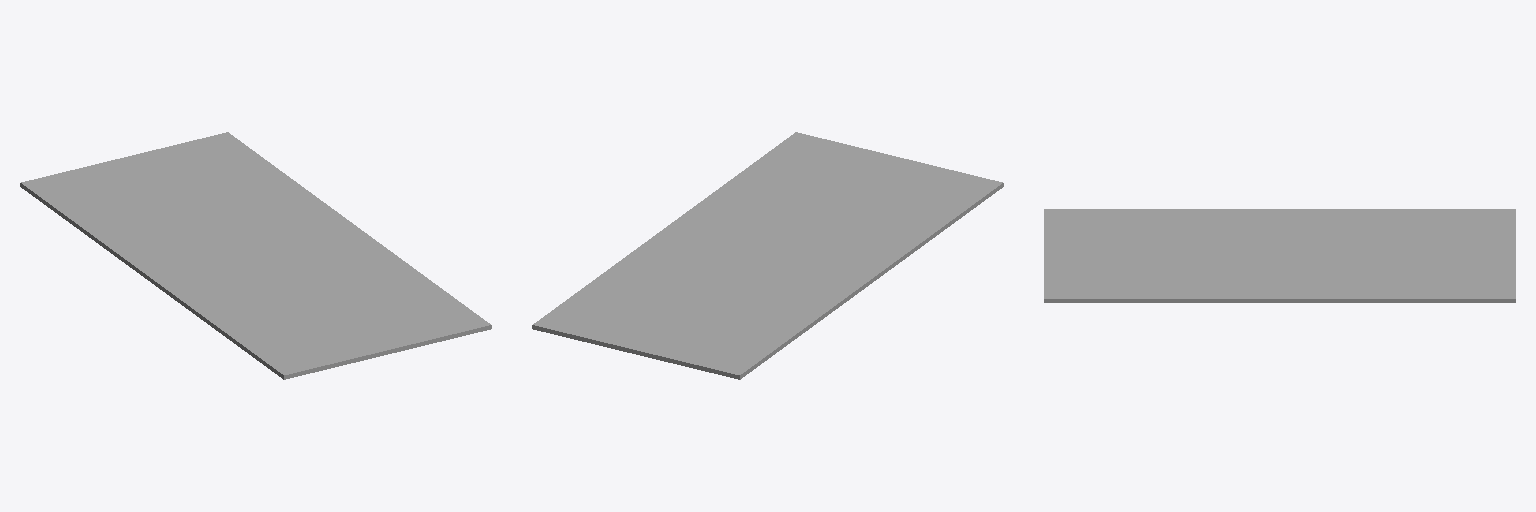
The robot description file, URDF, robot "ur5e":
<?xml version="1.0" ?>
<robot name="ur5e">
	<link name="base_link">
		<contact>
			<lateral_friction value="1.0" />
			<spinning_friction value="0.2" />
			<rolling_friction value="0.001" />
			<contact_cfm value="0.0" />
			<contact_erp value="0.8" />
			<damping value="1000" />
			<stiffness value="30000" />
		</contact>
		<inertial>
			<origin rpy="0 0 0" xyz="0 0 0" />
			<mass value="1.0" />
			<inertia ixx="1" ixy="0" ixz="0" iyy="1" iyz="0" izz="1" />
		</inertial>
		<visual>
			<origin rpy="0 0 0" xyz="0 0 -0.005" />
			<geometry>
				<box size= "0.5 1.1 0.01" />
			</geometry>
			<material name="base">
				<color rgba="0.7 0.7 0.7 1" />
			</material>
		</visual>
		<collision>
			<origin rpy="0 0 0" xyz="0 0 -0.005" />
			<geometry>
				<box size= "0.5 1.1 0.01" />
			</geometry>
		</collision>
	</link>

	<joint name="base_joint" type="fixed">
		<parent link="base_link"/>
		<child link="ur_base_link"/>
		<origin rpy="0 0 0" xyz="0.15 0.45 0.0"/>
	</joint>
	<link name="ur_base_link">
		<visual>
			<geometry>
				<mesh filename="mesh/visual/base.dae"/>
			</geometry>
			<material name="LightGrey">
				<color rgba="0.7 0.7 0.7 1.0"/>
			</material>
		</visual>
		<collision>
			<geometry>
				<mesh filename="mesh/collision/base.stl" scale="1.0 1.0 1.0"/>
			</geometry>
		</collision>
		<inertial>
			<mass value="4.0"/>
			<origin rpy="0 0 0" xyz="0.0 0.0 0.0"/>
			<inertia ixx="0.00443333156" ixy="0.0" ixz="0.0" iyy="0.00443333156" iyz="0.0" izz="0.0072"/>
		</inertial>
	</link>
	
	<joint name="shoulder_pan_joint" type="revolute">
		<parent link="ur_base_link"/>
		<child link="shoulder_link"/>
		<origin rpy="0.0 0.0 0.0" xyz="0.0 0.0 0.163"/>
		<axis xyz="0 0 1"/>
		<limit effort="150.0" lower="-6.28318530718" upper="6.28318530718" velocity="3.14"/>
		<dynamics damping="0.0" friction="0.0"/>
	</joint>
	
	<link name="shoulder_link">
		<visual>
			<geometry>
				<mesh filename="mesh/visual/shoulder.dae"/>
			</geometry>
			<material name="LightGrey">
				<color rgba="0.7 0.7 0.7 1.0"/>
			</material>
		</visual>
		<collision>
			<geometry>
				<mesh filename="mesh/collision/shoulder.stl" scale="1.0 1.0 1.0"/>
			</geometry>
		</collision>
		<inertial>
			<mass value="3.7"/>
			<origin rpy="0 0 0" xyz="0.0 0.0 0.0"/>
			<inertia ixx="0.010267495893" ixy="0.0" ixz="0.0" iyy="0.010267495893" iyz="0.0" izz="0.00666"/>
		</inertial>
	</link>
	
	<joint name="shoulder_lift_joint" type="revolute">
		<parent link="shoulder_link"/>
		<child link="upper_arm_link"/>
		<origin rpy="0.0 1.57079632679 0.0" xyz="0.0 0.138 0.0"/>
		<axis xyz="0 1 0"/>
		<limit effort="150.0" lower="-6.28318530718" upper="6.28318530718" velocity="3.14"/>
		<dynamics damping="0.0" friction="0.0"/>
	</joint>
	
	<link name="upper_arm_link">
		<visual>
			<geometry>
				<mesh filename="mesh/visual/upperarm.dae"/>
			</geometry>
			<material name="LightGrey">
				<color rgba="0.7 0.7 0.7 1.0"/>
			</material>
		</visual>
		<collision>
			<geometry>
				<mesh filename="mesh/collision/upperarm.stl" scale="1.0 1.0 1.0"/>
			</geometry>
		</collision>
		<inertial>
			<mass value="8.393"/>
			<origin rpy="0 0 0" xyz="0.0 0.0 0.2125"/>
			<inertia ixx="0.133885781862" ixy="0.0" ixz="0.0" iyy="0.133885781862" iyz="0.0" izz="0.0151074"/>
		</inertial>
	</link>
	
	<joint name="elbow_joint" type="revolute">
		<parent link="upper_arm_link"/>
		<child link="forearm_link"/>
		<origin rpy="0.0 0.0 0.0" xyz="0.0 -0.131 0.425"/>
		<axis xyz="0 1 0"/>
		<limit effort="150.0" lower="-3.14159265359" upper="3.14159265359" velocity="3.14"/>
		<dynamics damping="0.0" friction="0.0"/>
	</joint>
	
	<link name="forearm_link">
		<visual>
			<geometry>
				<mesh filename="mesh/visual/forearm.dae"/>
			</geometry>
			<material name="LightGrey">
				<color rgba="0.7 0.7 0.7 1.0"/>
			</material>
		</visual>
		<collision>
			<geometry>
				<mesh filename="mesh/collision/forearm.stl" scale="1.0 1.0 1.0"/>
			</geometry>
		</collision>
		<inertial>
			<mass value="2.275"/>
			<origin rpy="0 0 0" xyz="0.0 0.0 0.196"/>
			<inertia ixx="0.0311796208615" ixy="0.0" ixz="0.0" iyy="0.0311796208615" iyz="0.0" izz="0.004095"/>
		</inertial>
	</link>
	
	<joint name="wrist_1_joint" type="revolute">
		<parent link="forearm_link"/>
		<child link="wrist_1_link"/>
		<origin rpy="0.0 1.57079632679 0.0" xyz="0.0 0.0 0.392"/>
		<axis xyz="0 1 0"/>
		<limit effort="28.0" lower="-6.28318530718" upper="6.28318530718" velocity="6.28"/>
		<dynamics damping="0.0" friction="0.0"/>
	</joint>
	
	<link name="wrist_1_link">
		<visual>
			<geometry>
				<mesh filename="mesh/visual/wrist1.dae"/>
			</geometry>
			<material name="LightGrey">
				<color rgba="0.7 0.7 0.7 1.0"/>
			</material>
		</visual>
		<collision>
			<geometry>
				<mesh filename="mesh/collision/wrist1.stl" scale="1.0 1.0 1.0"/>
			</geometry>
		</collision>
		<inertial>
			<mass value="1.219"/>
			<origin rpy="0 0 0" xyz="0.0 0.127 0.0"/>
			<inertia ixx="0.00255989897604" ixy="0.0" ixz="0.0" iyy="0.00255989897604" iyz="0.0" izz="0.0021942"/>
		</inertial>
	</link>
	
	<joint name="wrist_2_joint" type="revolute">
		<parent link="wrist_1_link"/>
		<child link="wrist_2_link"/>
		<origin rpy="0.0 0.0 0.0" xyz="0.0 0.127 0.0"/>
		<axis xyz="0 0 1"/>
		<limit effort="28.0" lower="-6.28318530718" upper="6.28318530718" velocity="6.28"/>
		<dynamics damping="0.0" friction="0.0"/>
	</joint>
	
	<link name="wrist_2_link">
		<visual>
			<geometry>
				<mesh filename="mesh/visual/wrist2.dae"/>
			</geometry>
			<material name="LightGrey">
				<color rgba="0.7 0.7 0.7 1.0"/>
			</material>
		</visual>
		<collision>
			<geometry>
				<mesh filename="mesh/collision/wrist2.stl" scale="1.0 1.0 1.0"/>
			</geometry>
		</collision>
		<inertial>
			<mass value="1.219"/>
			<origin rpy="0 0 0" xyz="0.0 0.0 0.1"/>
			<inertia ixx="0.00255989897604" ixy="0.0" ixz="0.0" iyy="0.00255989897604" iyz="0.0" izz="0.0021942"/>
		</inertial>
	</link>
	
	<joint name="wrist_3_joint" type="revolute">
		<parent link="wrist_2_link"/>
		<child link="wrist_3_link"/>
		<origin rpy="0.0 0.0 0.0" xyz="0.0 0.0 0.1"/>
		<axis xyz="0 1 0"/>
		<limit effort="28.0" lower="-6.28318530718" upper="6.28318530718" velocity="6.28"/>
		<dynamics damping="0.0" friction="0.0"/>
	</joint>
	
	<link name="wrist_3_link">
		<visual>
			<geometry>
				<mesh filename="mesh/visual/wrist3.dae"/>
			</geometry>
			<material name="LightGrey">
				<color rgba="0.7 0.7 0.7 1.0"/>
			</material>
		</visual>
		<collision>
			<geometry>
				<mesh filename="mesh/collision/wrist3.stl" scale="1.0 1.0 1.0"/>
			</geometry>
		</collision>
		<inertial>
			<mass value="0.1879"/>
			<origin rpy="1.57079632679 0 0" xyz="0.0 0.0771 0.0"/>
			<inertia ixx="9.89041005217e-05" ixy="0.0" ixz="0.0" iyy="9.89041005217e-05" iyz="0.0" izz="0.0001321171875"/>
		</inertial>
	</link>
	
	<joint name="ee_fixed_joint" type="fixed">
		<parent link="wrist_3_link"/>
		<child link="ee_link"/>
		<origin rpy="0.0 0.0 1.57079632679" xyz="0.0 0.1 0.0"/>
	</joint>
	
	<link name="ee_link">
		<collision>
			<geometry>
				<box size="0.01 0.01 0.01"/>
			</geometry>
				<origin rpy="0 0 0" xyz="-0.01 0 0"/>
		</collision>
	</link>
	
	<transmission name="shoulder_pan_trans">
		<type>transmission_interface/SimpleTransmission</type>
		<joint name="shoulder_pan_joint">
			<hardwareInterface>hardware_interface/PositionJointInterface</hardwareInterface>
		</joint>
		<actuator name="shoulder_pan_motor">
			<mechanicalReduction>1</mechanicalReduction>
		</actuator>
	</transmission>
	
	<transmission name="shoulder_lift_trans">
		<type>transmission_interface/SimpleTransmission</type>
		<joint name="shoulder_lift_joint">
			<hardwareInterface>hardware_interface/PositionJointInterface</hardwareInterface>
		</joint>
		<actuator name="shoulder_lift_motor">
			<mechanicalReduction>1</mechanicalReduction>
		</actuator>
	</transmission>
	
	<transmission name="elbow_trans">
		<type>transmission_interface/SimpleTransmission</type>
		<joint name="elbow_joint">
			<hardwareInterface>hardware_interface/PositionJointInterface</hardwareInterface>
		</joint>
		<actuator name="elbow_motor">
			<mechanicalReduction>1</mechanicalReduction>
		</actuator>
	</transmission>
	
	<transmission name="wrist_1_trans">
		<type>transmission_interface/SimpleTransmission</type>
		<joint name="wrist_1_joint">
			<hardwareInterface>hardware_interface/PositionJointInterface</hardwareInterface>
		</joint>
		<actuator name="wrist_1_motor">
			<mechanicalReduction>1</mechanicalReduction>
		</actuator>
	</transmission>
	
	<transmission name="wrist_2_trans">
		<type>transmission_interface/SimpleTransmission</type>
		<joint name="wrist_2_joint">
			<hardwareInterface>hardware_interface/PositionJointInterface</hardwareInterface>
		</joint>
		<actuator name="wrist_2_motor">
			<mechanicalReduction>1</mechanicalReduction>
		</actuator>
	</transmission>
	
	<transmission name="wrist_3_trans">
		<type>transmission_interface/SimpleTransmission</type>
		<joint name="wrist_3_joint">
			<hardwareInterface>hardware_interface/PositionJointInterface</hardwareInterface>
		</joint>
		<actuator name="wrist_3_motor">
			<mechanicalReduction>1</mechanicalReduction>
		</actuator>
	</transmission>
	
	<gazebo reference="shoulder_link">
		<selfCollide>true</selfCollide>
	</gazebo>
	
	<gazebo reference="upper_arm_link">
		<selfCollide>true</selfCollide>
	</gazebo>
	
	<gazebo reference="forearm_link">
		<selfCollide>true</selfCollide>
	</gazebo>
	
	<gazebo reference="wrist_1_link">
		<selfCollide>true</selfCollide>
	</gazebo>
	
	<gazebo reference="wrist_3_link">
		<selfCollide>true</selfCollide>
	</gazebo>
	
	<gazebo reference="wrist_2_link">
		<selfCollide>true</selfCollide>
	</gazebo>
	
	<gazebo reference="ee_link">
		<selfCollide>true</selfCollide>
	</gazebo>
	
	<link name="base"/>
	<joint name="ur_base_link-base_fixed_joint" type="fixed">
    	<origin rpy="0 0 -3.14159265359" xyz="0 0 0"/>
		<parent link="ur_base_link"/>
		<child link="base"/>
	</joint>
	
	<link name="tool0"/>
	<joint name="wrist_3_link-tool0_fixed_joint" type="fixed">
		<origin rpy="-1.57079632679 0 0" xyz="0 0.1 0"/>
		<parent link="wrist_3_link"/>
		<child link="tool0"/>
	</joint>
	

	
</robot>

--- What the picture shows (computed from the rendered views, not written in the file) ---
The picture shows the robot from 3 angles, left to right: view 1: azimuth 30°, elevation 25°; view 2: azimuth 150°, elevation 25°; view 3: azimuth 270°, elevation 25°; orthographic projection.
Robot: ur5e — 11 links, 10 joints (6 revolute, 4 fixed); root link base_link; default pose: all joints at 0.
Visible links, largest first — view 1: base_link; view 2: base_link; view 3: base_link.
Link boxes in pixels (box(x1,y1,x2,y2)): base_link: box(20, 132, 491, 379); base_link: box(532, 132, 1003, 379); base_link: box(1044, 209, 1515, 302).
Bounding box of the posed robot: 0.5 × 1.1 × 0.01 m (x, y, z).
Meshes: 7 distinct files referenced, 0 mesh visuals loaded (none loaded); not drawn: 7 (reference not matched to a file when rendering).